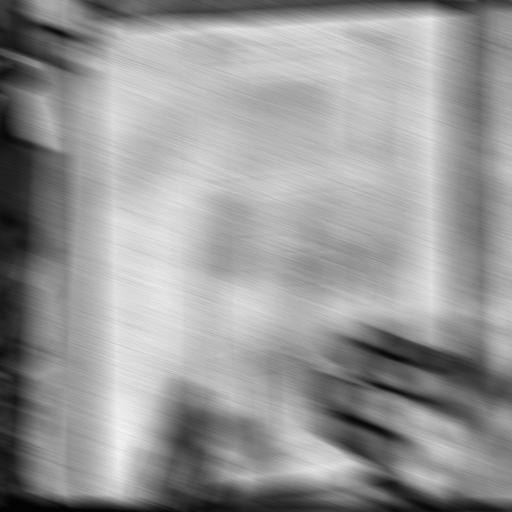bottom_right: (447, 441, 468, 458)
door: (194, 20, 389, 480)
top_left: (76, 23, 98, 43)
top_right: (446, 1, 464, 14)
